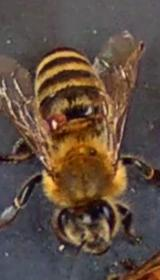varroa_mite: (42, 107, 68, 134)
